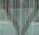Give way: (2, 1, 38, 33)
